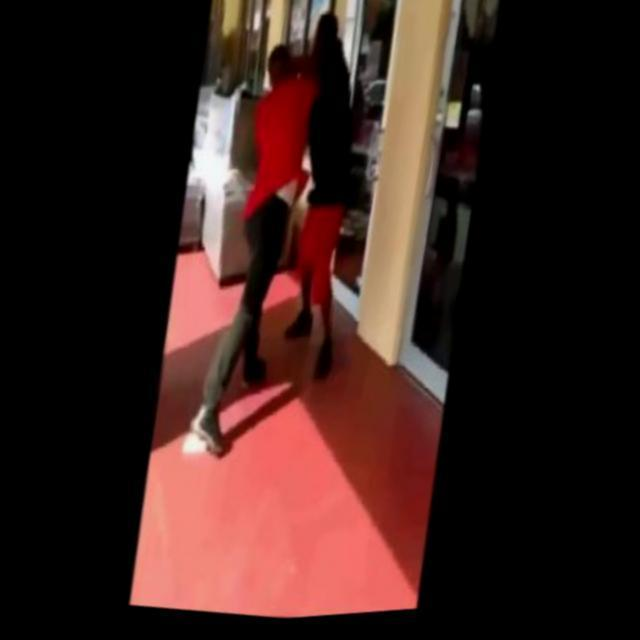fight: (191, 3, 393, 476)
